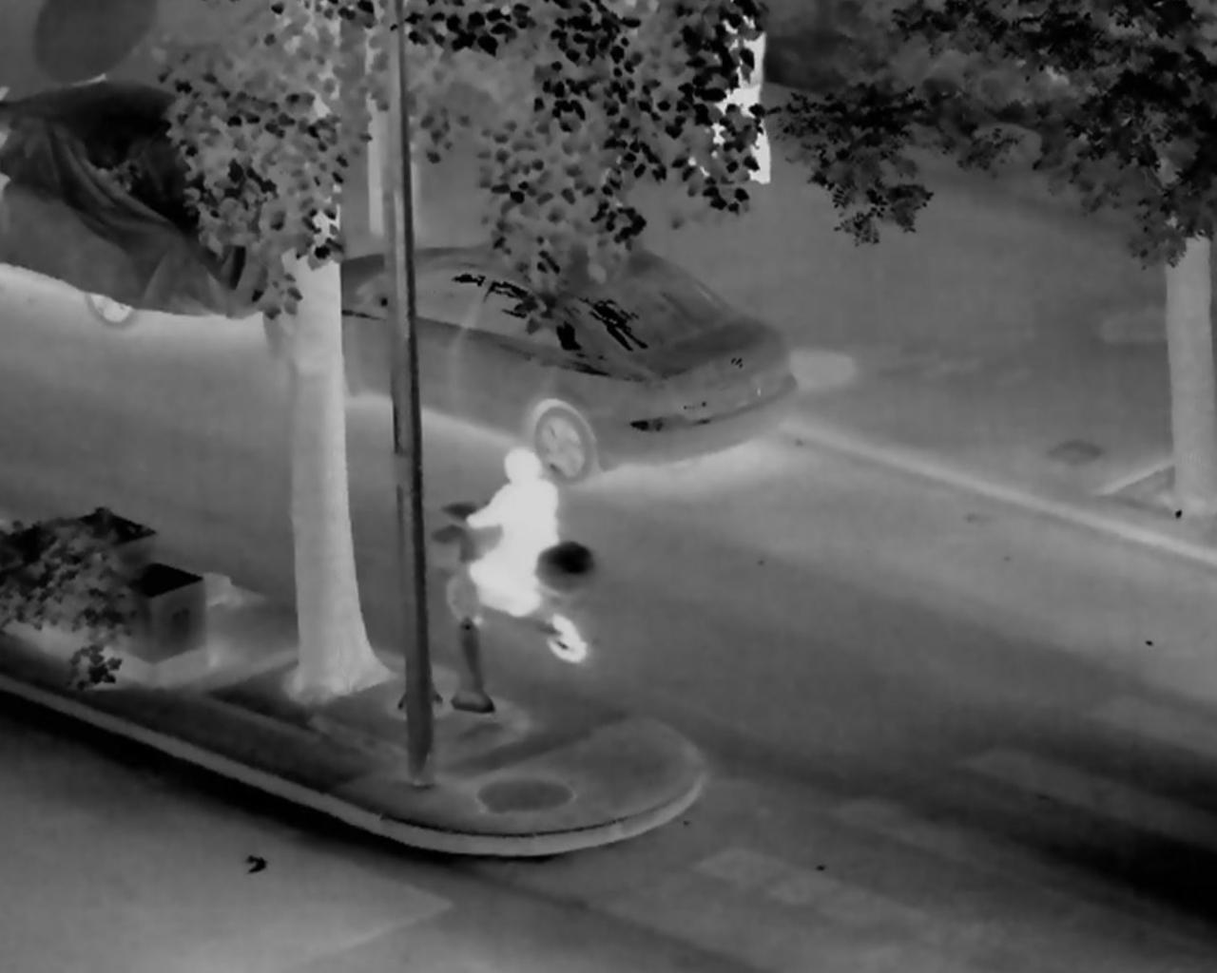person: (464, 448, 561, 614)
